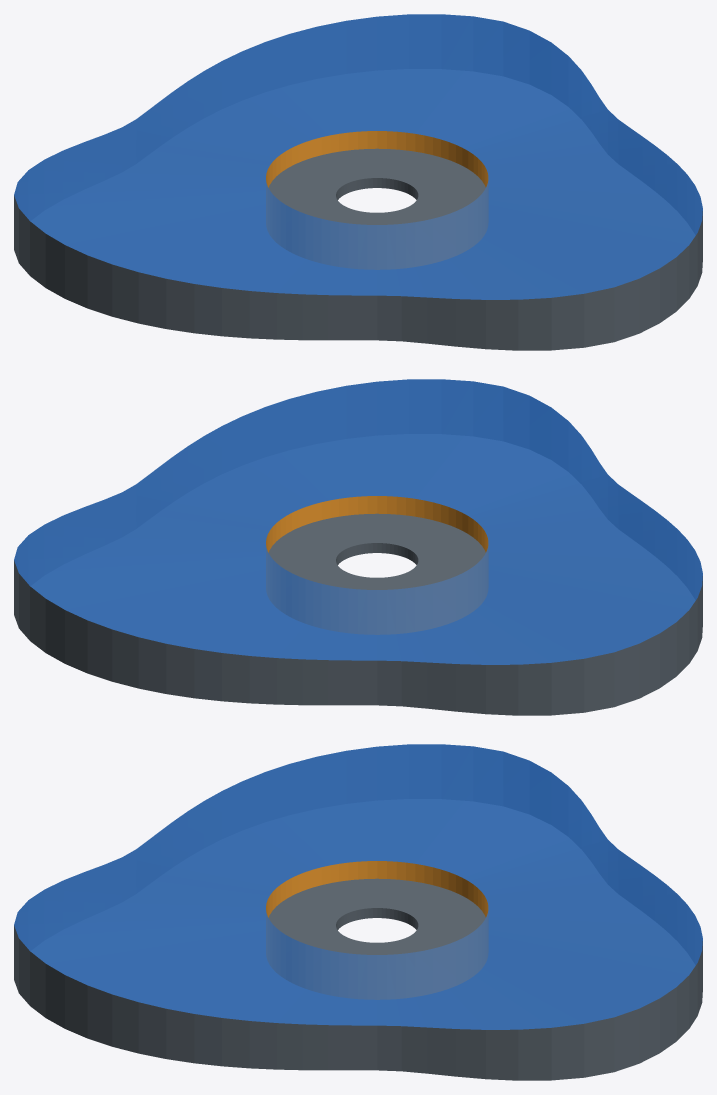
Rendered from blade_storm_fang.glb.
3 views of the same model, one above another, from view 1: azimuth 30°, elevation 25°; view 2: azimuth 150°, elevation 25°; view 3: azimuth 270°, elevation 25° (orthographic).
Visible parts, largest first — view 1: GEO_blade_storm_fang_BODY, GEO_blade_storm_fang_NSS_V1_COLLAR; view 2: GEO_blade_storm_fang_BODY, GEO_blade_storm_fang_NSS_V1_COLLAR; view 3: GEO_blade_storm_fang_BODY, GEO_blade_storm_fang_NSS_V1_COLLAR.
Part boxes in pixels (x1,y1,x2,y2): GEO_blade_storm_fang_BODY: (14,14,702,350); GEO_blade_storm_fang_NSS_V1_COLLAR: (268,148,485,224); GEO_blade_storm_fang_BODY: (14,379,702,715); GEO_blade_storm_fang_NSS_V1_COLLAR: (268,513,485,589); GEO_blade_storm_fang_BODY: (14,744,702,1080); GEO_blade_storm_fang_NSS_V1_COLLAR: (268,878,485,954).
Size of the model in its own units: 0.0647 by 0.0059 by 0.0669.
